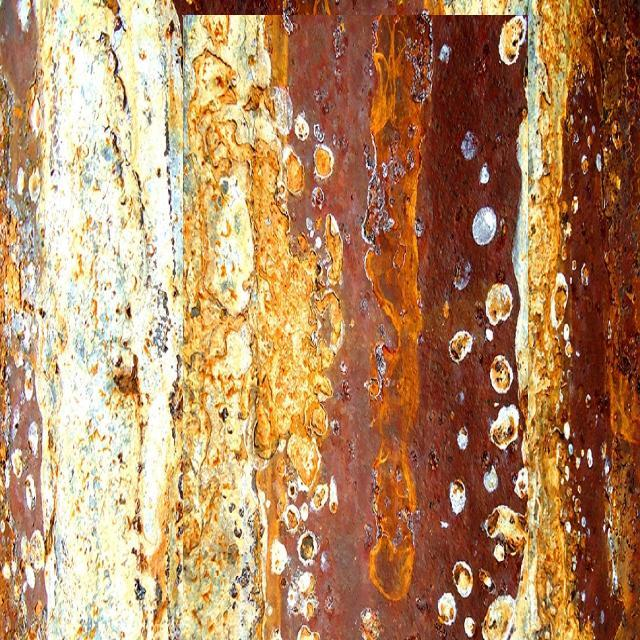Corrosion: (258, 15, 426, 640), (370, 15, 527, 640), (558, 0, 640, 640)
